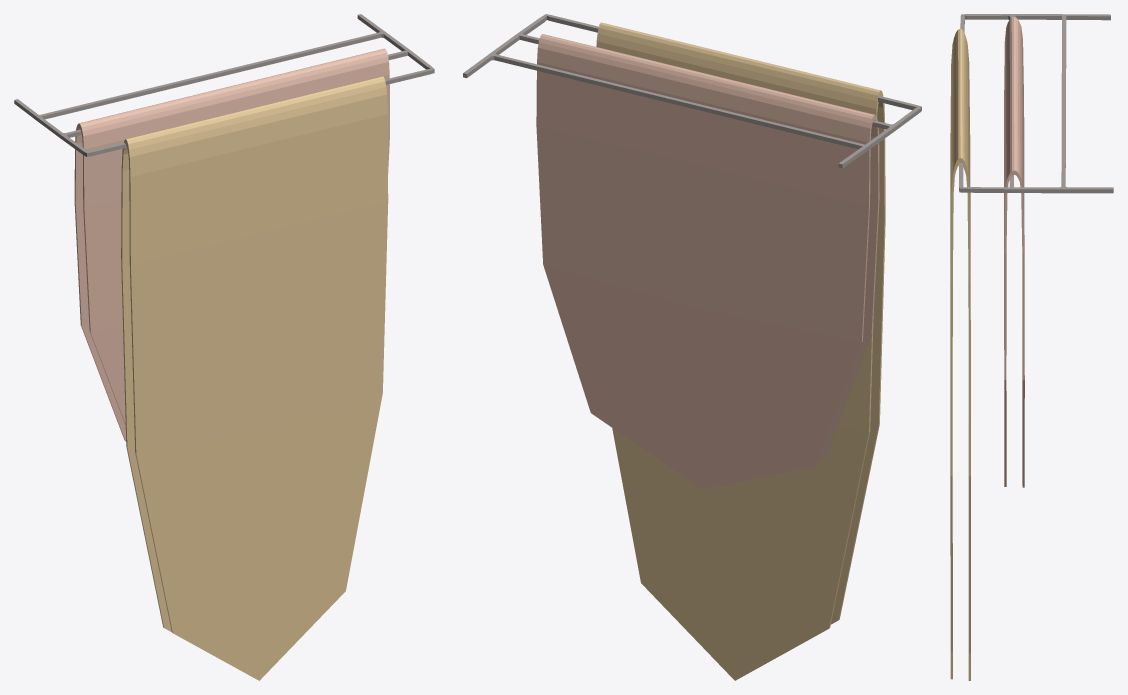
The model's file is sechoir serviette.fbx.
3 views of the same model, side by side, from view 1: azimuth 30°, elevation 25°; view 2: azimuth 150°, elevation 25°; view 3: azimuth 270°, elevation 25° (orthographic). The views are drawn at different scales.
Parts seen in each view (by area): view 1: Cube.007; view 2: Cube.007; view 3: Cube.007.
Part boxes in pixels (box(x1,y1,x2,y2)): Cube.007: box(14, 14, 434, 680); Cube.007: box(463, 14, 921, 680); Cube.007: box(950, 14, 1113, 680).
Size of the model in its own units: 32.86 by 51.5 by 12.96.
